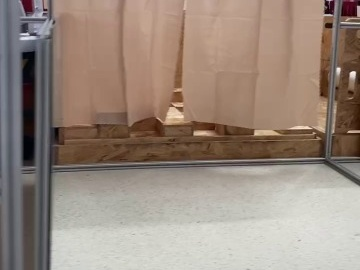curtain: (58, 0, 338, 130)
